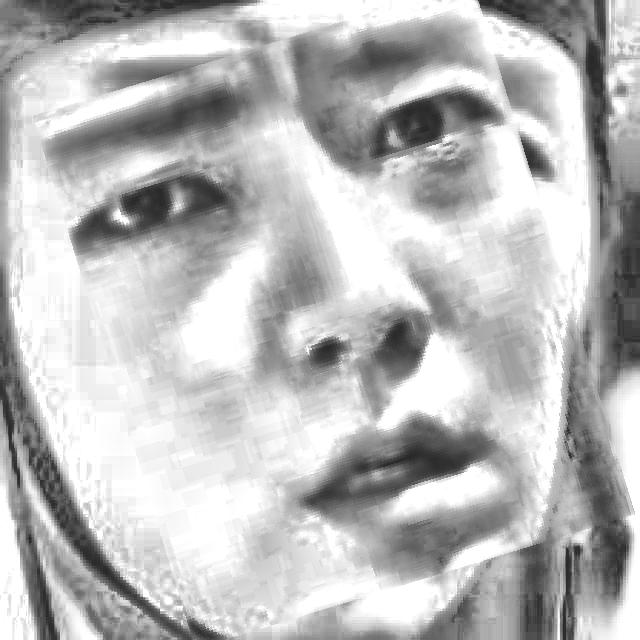fear: (68, 8, 600, 620)
